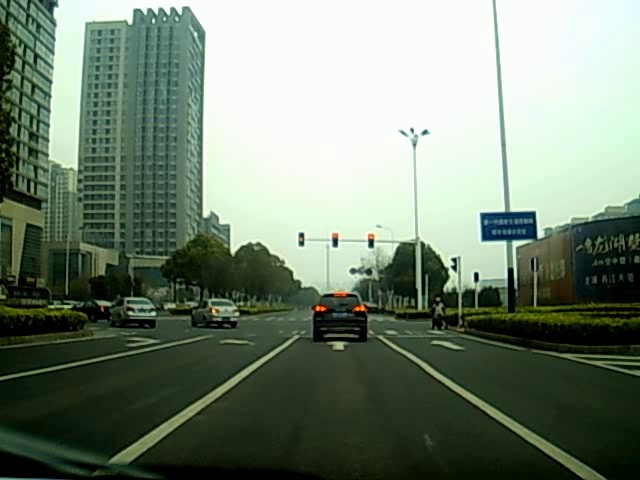Traffic_Light_stop: (331, 231, 339, 250), (366, 233, 375, 249)
